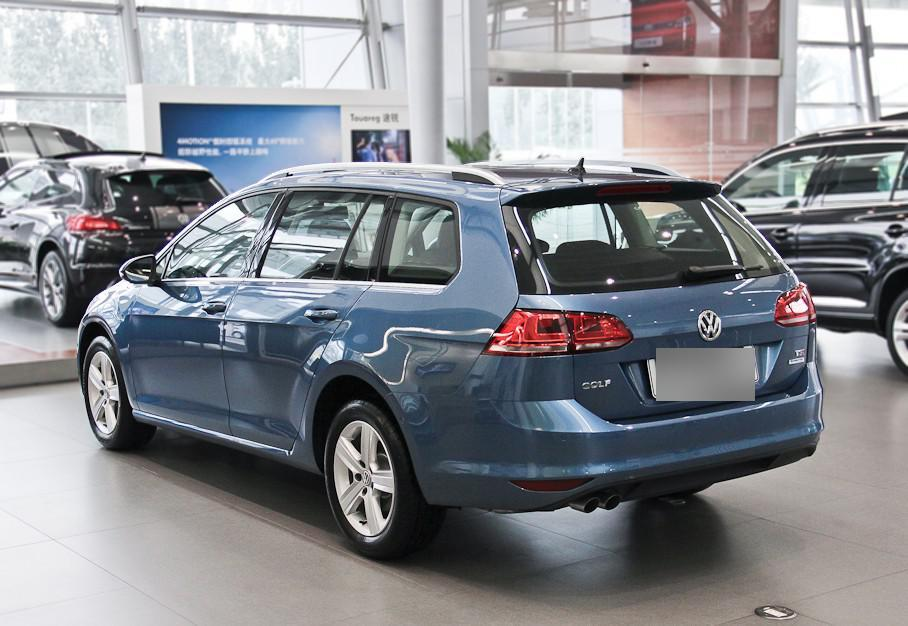Wagon: (76, 157, 825, 557)
